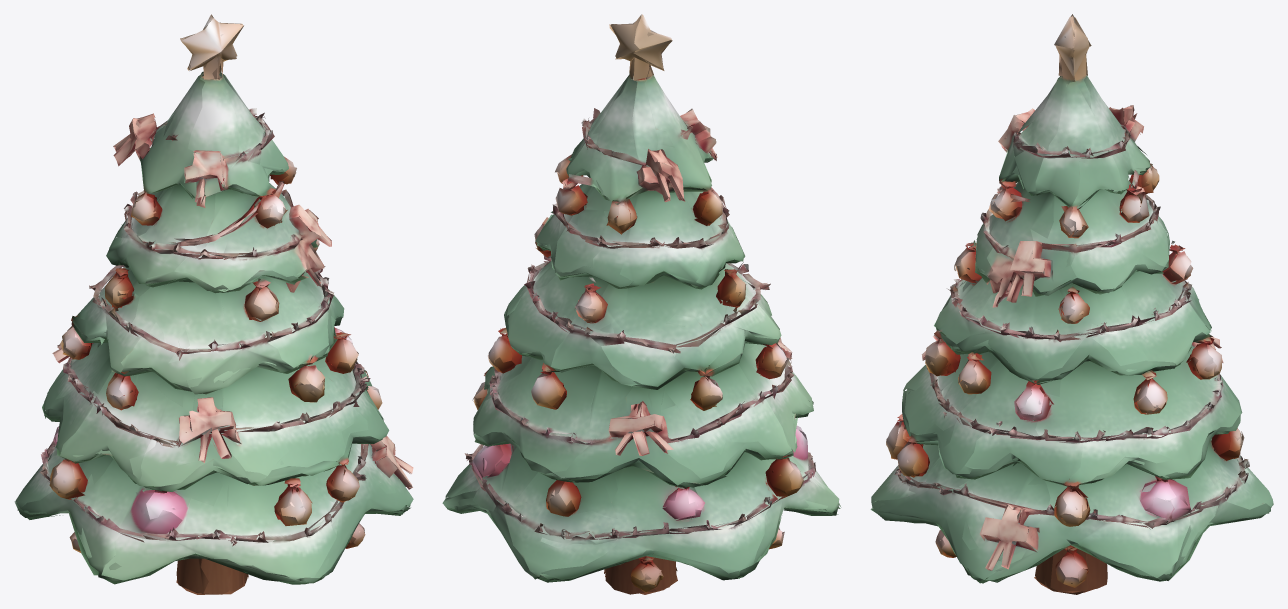
The model's file is ornate-christmas-tree-lod.glb.
3 renders of one model, left to right at view 1: azimuth 30°, elevation 25°; view 2: azimuth 150°, elevation 25°; view 3: azimuth 270°, elevation 25°, orthographic.
Parts seen in each view (by area): view 1: world; view 2: world; view 3: world.
Part boxes in pixels (x1,y1,x2,y2): world: (14,14,413,594); world: (442,14,841,594); world: (870,14,1273,594).
Size of the model in its own units: 0.5454 by 0.901 by 0.5825.
Materials: 1 (1 with a texture image).
